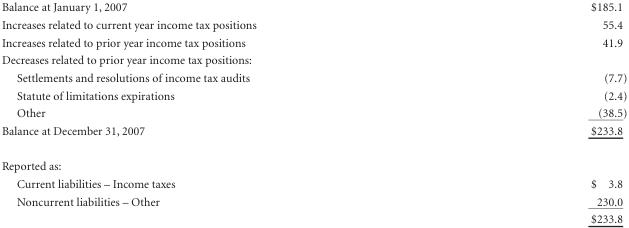table: (0, 0, 626, 225)
table column: (0, 0, 422, 225), (422, 0, 626, 225)
table projected row header: (0, 148, 626, 174), (0, 51, 626, 68)
table row: (0, 121, 626, 148), (0, 148, 626, 174), (0, 15, 626, 33), (0, 33, 626, 51), (0, 68, 626, 86), (0, 86, 626, 104), (0, 174, 626, 192), (0, 192, 626, 210), (0, 51, 626, 68), (0, 104, 626, 121), (0, 0, 626, 15), (0, 210, 626, 225)
